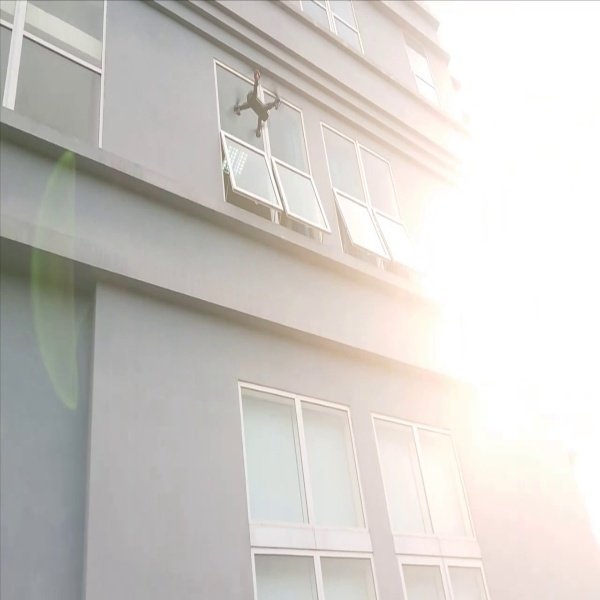drone: (222, 64, 284, 141)
